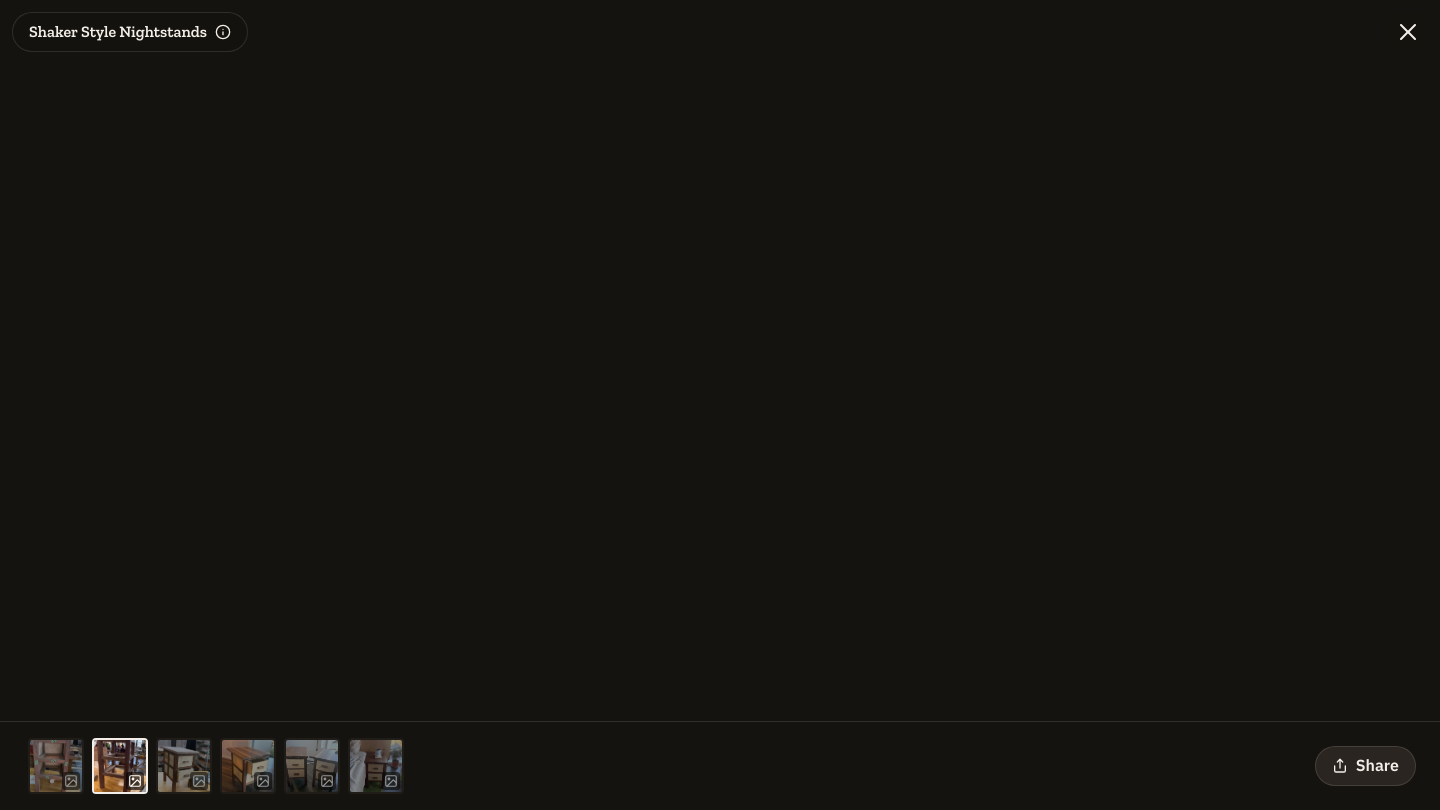
Test: Project view › copies a link to the exact photo being viewed when the device has no share sheet
This screenshot has width=1440, height=810.
Click the button "Share".
click(1365, 766)  # box left=1315, top=746, right=1416, bottom=786
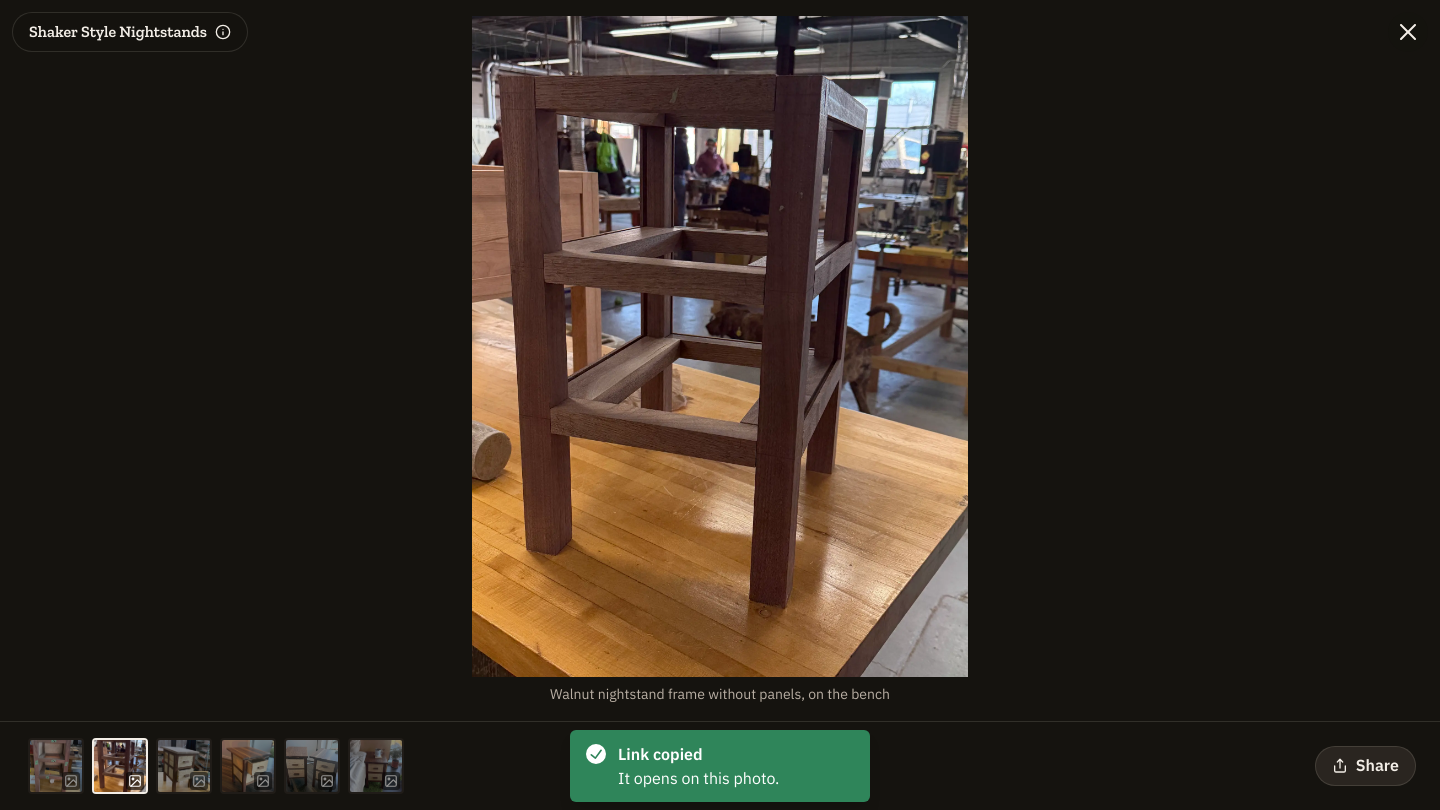
Expected: the text "Link copied" is shown, left=618, top=744, right=703, bottom=764
